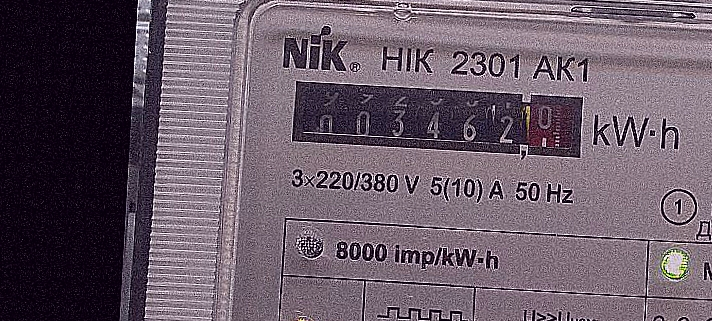0: (352, 106, 372, 136), (535, 102, 554, 131), (315, 110, 335, 134)
2: (496, 112, 516, 145)
3: (387, 106, 407, 139)
4: (424, 108, 443, 140)
6: (458, 109, 480, 145)
9: (319, 88, 340, 109)
screen: (278, 67, 595, 176)
